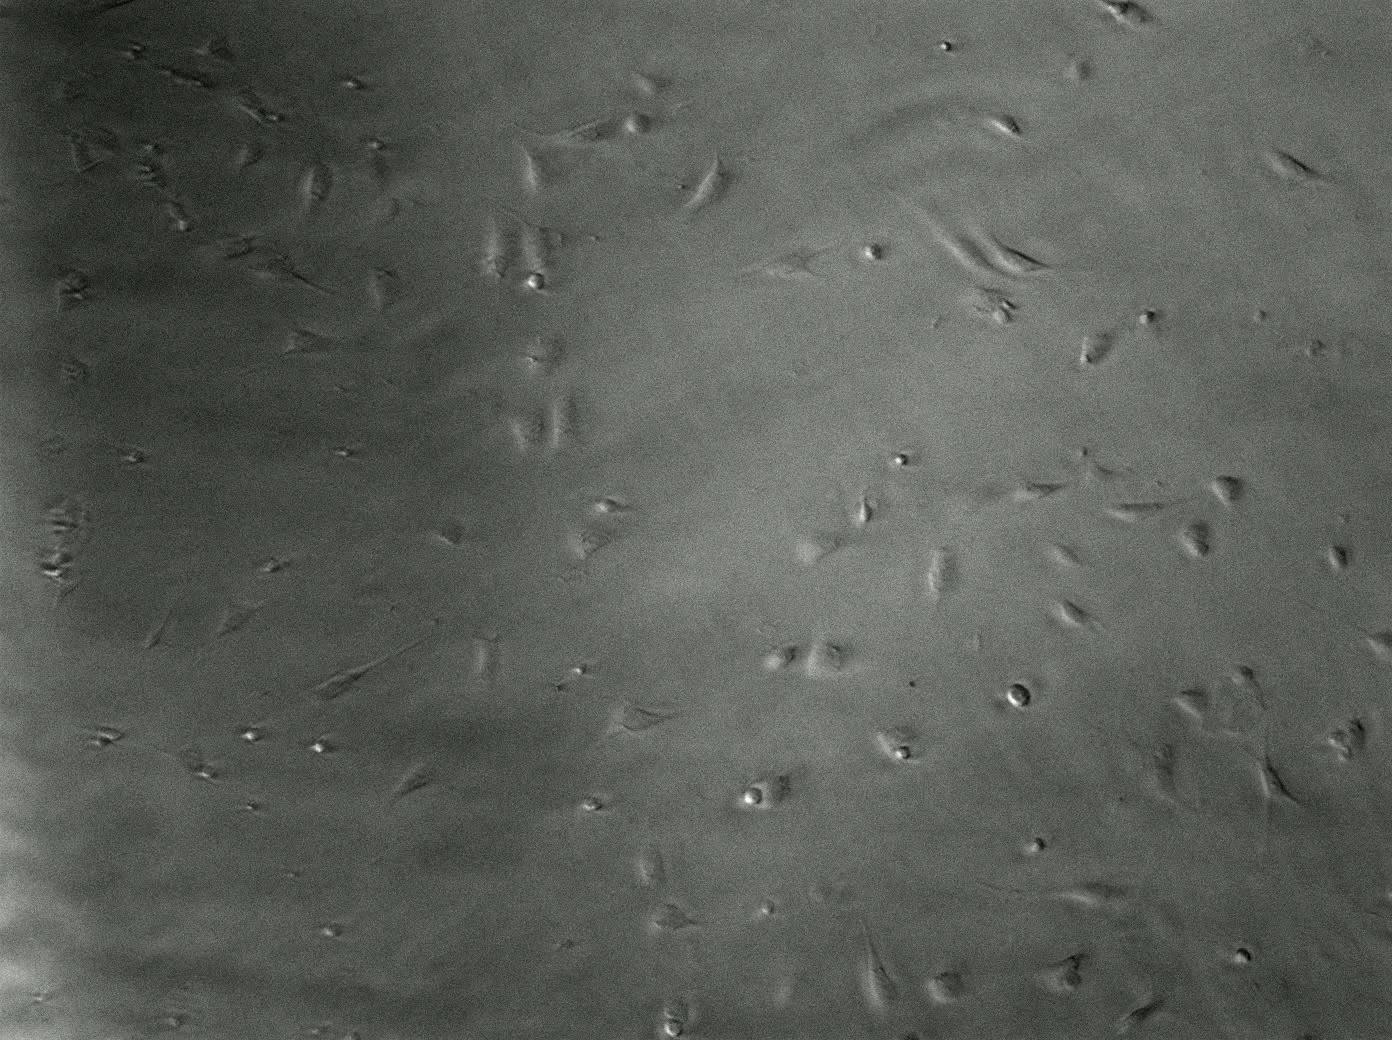cell: (296, 627, 440, 707), (913, 200, 1036, 289), (1230, 724, 1305, 848), (1100, 741, 1200, 820), (235, 317, 352, 378), (587, 692, 693, 754), (1301, 598, 1392, 662), (505, 204, 567, 293), (510, 106, 637, 146), (727, 240, 840, 285), (476, 206, 524, 308), (976, 881, 1129, 911), (680, 147, 746, 214), (545, 380, 597, 464), (858, 917, 900, 1015), (245, 255, 335, 297), (1104, 989, 1176, 1040), (382, 756, 451, 809), (787, 517, 850, 571), (14, 428, 103, 466), (1262, 141, 1337, 186), (982, 228, 1054, 274), (190, 228, 273, 268), (231, 88, 293, 141), (974, 108, 1048, 152), (805, 627, 864, 682), (1311, 709, 1366, 767), (211, 590, 270, 643), (1026, 952, 1089, 1000), (141, 734, 210, 778), (519, 145, 575, 197), (1096, 497, 1196, 525), (367, 259, 417, 316), (46, 347, 109, 392), (49, 267, 102, 320), (1089, 0, 1164, 36), (507, 405, 547, 469), (999, 475, 1078, 507), (563, 521, 616, 568), (1051, 591, 1106, 636), (964, 284, 1024, 324), (178, 32, 241, 70), (925, 542, 962, 607), (528, 327, 568, 383), (303, 157, 337, 224), (1076, 320, 1121, 370), (647, 900, 709, 935), (155, 60, 219, 94), (140, 601, 178, 653), (132, 151, 174, 199), (469, 628, 505, 683), (48, 67, 99, 105), (55, 132, 99, 175), (746, 773, 792, 815), (68, 122, 121, 157), (623, 64, 675, 99), (1166, 686, 1210, 728), (756, 639, 804, 676), (1202, 473, 1248, 510), (770, 969, 806, 1016), (1168, 523, 1211, 563), (47, 571, 86, 612), (637, 841, 670, 888), (354, 152, 397, 188), (616, 106, 659, 139), (931, 969, 968, 1006), (163, 196, 196, 237), (876, 730, 916, 764), (424, 519, 468, 548), (75, 721, 129, 743), (1050, 542, 1086, 572), (588, 497, 634, 517), (233, 144, 263, 173), (1003, 683, 1030, 712), (663, 995, 689, 1023), (1328, 544, 1353, 572), (662, 1018, 685, 1038)
debris: (303, 731, 338, 757), (232, 723, 270, 746), (114, 444, 150, 465), (315, 919, 351, 941), (1135, 306, 1163, 332), (158, 1014, 194, 1032), (522, 270, 547, 295), (255, 557, 291, 575), (334, 75, 367, 94), (989, 306, 1016, 326), (578, 795, 604, 815), (1230, 947, 1253, 969), (1060, 971, 1084, 992), (548, 937, 578, 954), (863, 243, 885, 264), (1023, 836, 1048, 854), (192, 767, 221, 783), (858, 492, 872, 524), (333, 446, 362, 461), (368, 132, 388, 154), (741, 787, 764, 805), (934, 38, 958, 56), (27, 993, 57, 1007), (303, 1026, 334, 1038), (1189, 542, 1208, 560), (758, 897, 776, 918), (237, 801, 262, 814), (889, 454, 911, 469), (87, 736, 115, 747), (999, 297, 1019, 311), (334, 1030, 364, 1040), (896, 745, 912, 761), (264, 114, 288, 125), (570, 664, 590, 676), (552, 683, 566, 695)
